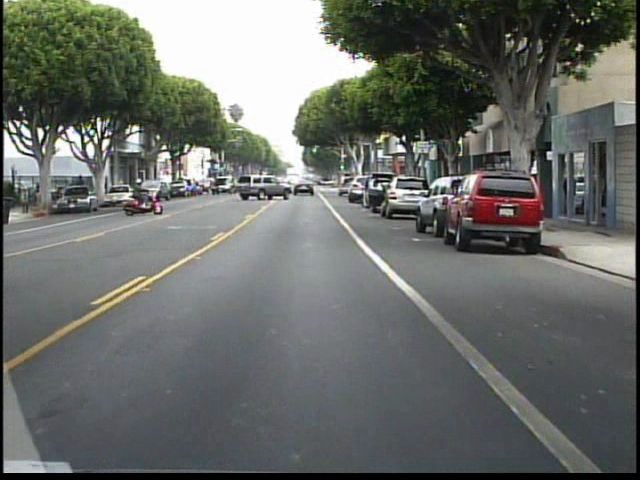person: (133, 178, 157, 213), (76, 172, 93, 207)
